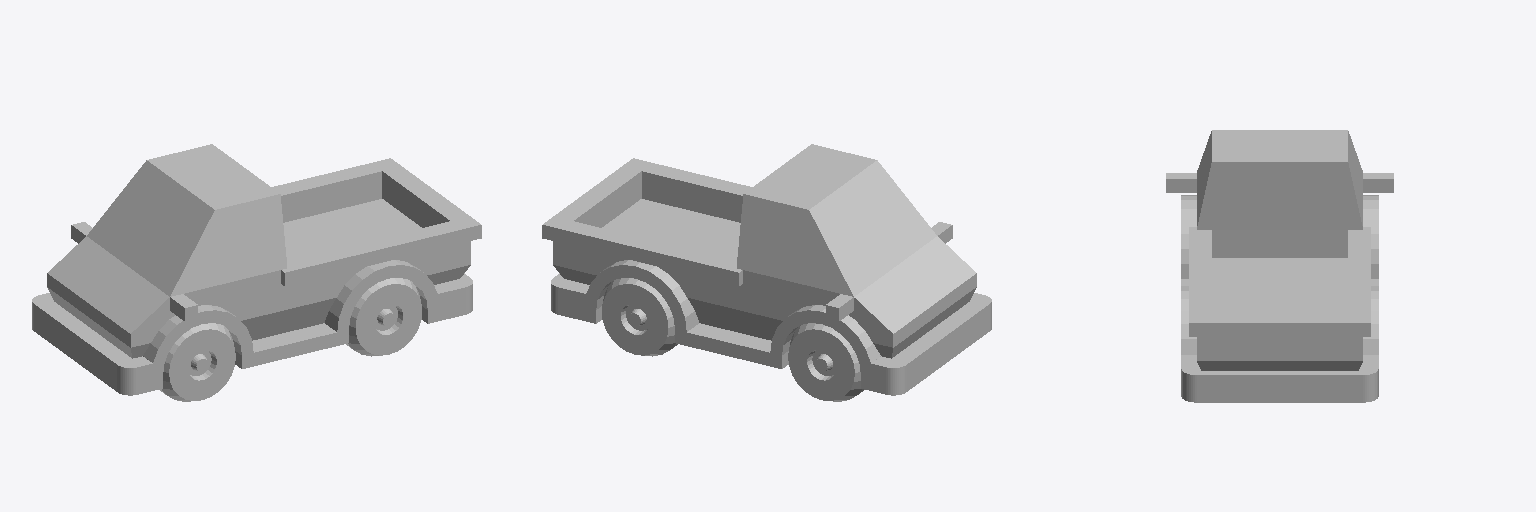
The model's file is truckFlat.obj.
3 views of the same model, side by side, from view 1: azimuth 30°, elevation 25°; view 2: azimuth 150°, elevation 25°; view 3: azimuth 270°, elevation 25° (orthographic).
Parts seen in each view (by area): view 1: body, wheel_backLeft, wheel_frontLeft; view 2: body, wheel_backRight, wheel_frontRight; view 3: body.
Part boxes in pixels (left/top/right/bottom): body: left=32, top=144, right=481, bottom=395; wheel_backLeft: left=346, top=278, right=421, bottom=356; wheel_frontLeft: left=160, top=323, right=235, bottom=401; body: left=542, top=144, right=991, bottom=395; wheel_backRight: left=602, top=278, right=677, bottom=356; wheel_frontRight: left=788, top=323, right=863, bottom=401; body: left=1166, top=130, right=1393, bottom=402.
Bounding box in the file's own units: 2.06 × 0.975 × 1.12.